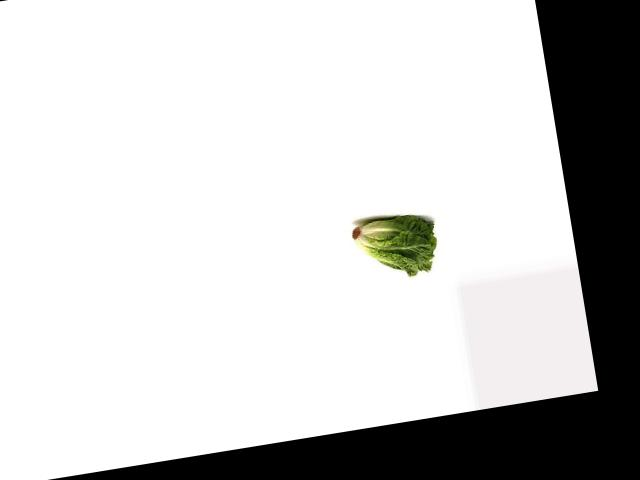lettuce: (346, 208, 441, 285)
